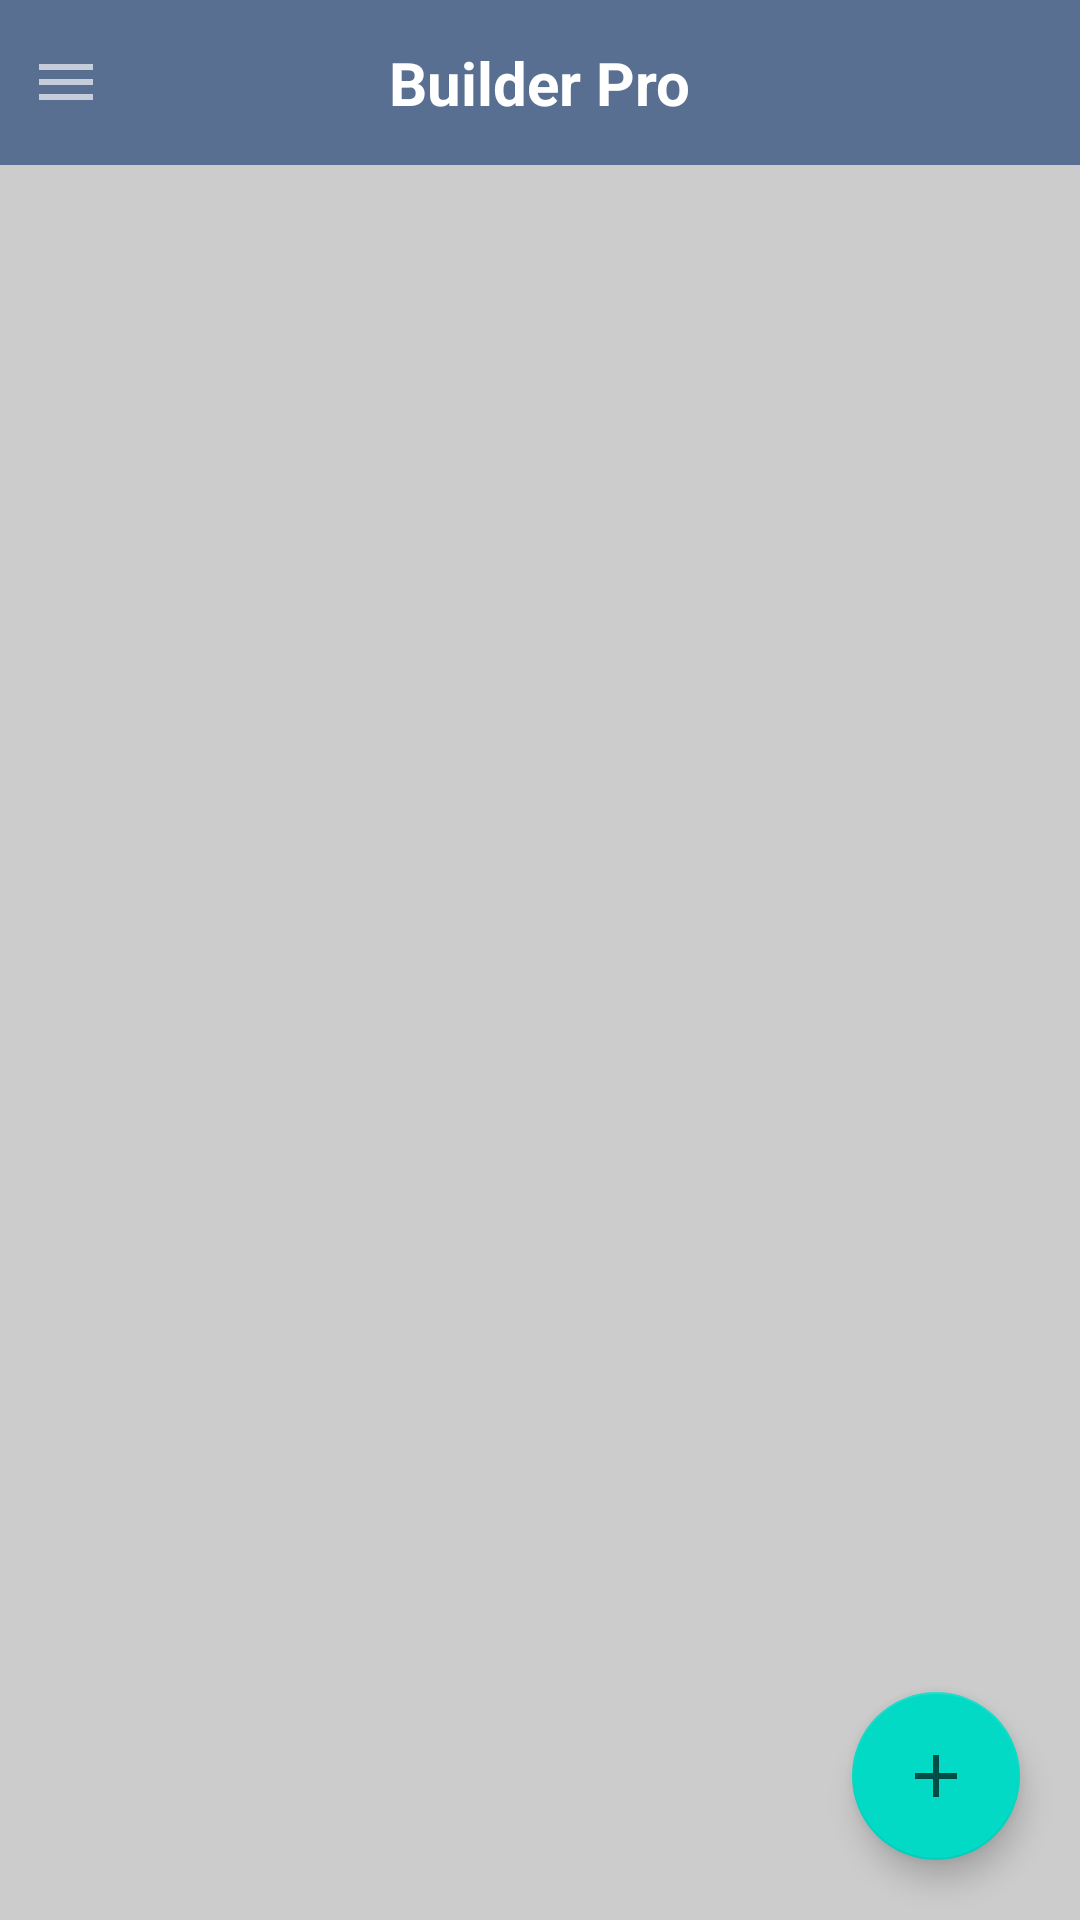

Where to tap for icons on this 1080 × 1920 app screen, as point (x, y):
add: point (936, 1776)
menu: point (66, 82)
